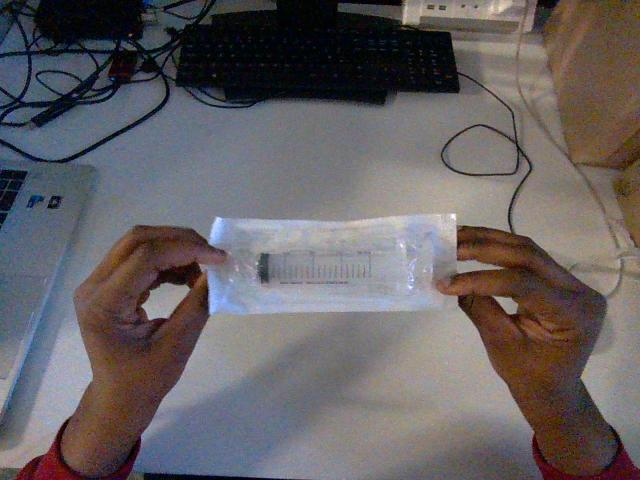syringe: (208, 214, 456, 313)
